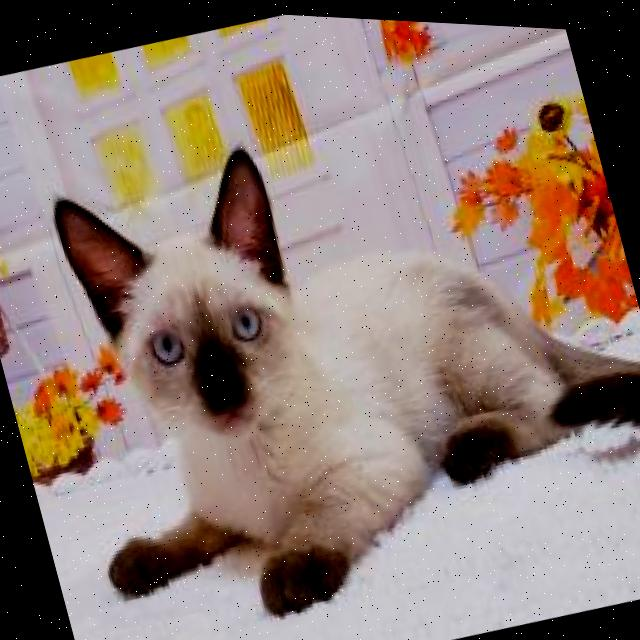Siamese: (4, 33, 640, 640)
